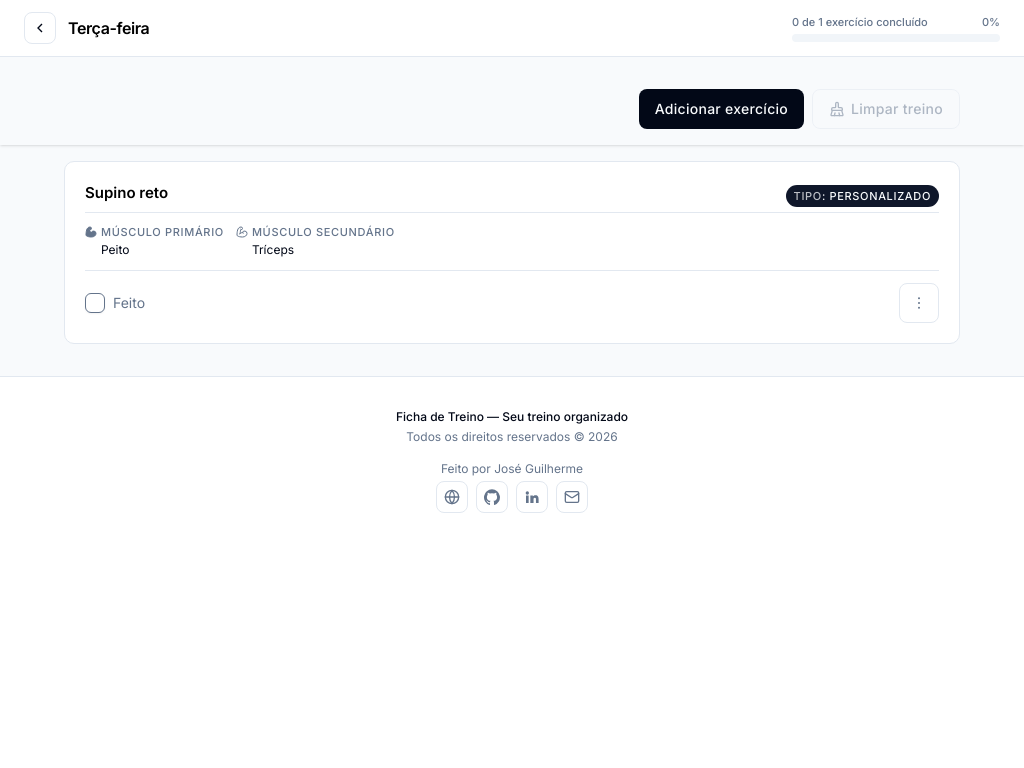
Test case: WorkoutDayPage › shows custom exercise edit failures only in the error dialog
What coordinates should you click on to do the following:
click the button named "Ações para Supino reto"
I would click on:
 (919, 303)
Its box is [899, 283, 939, 323].
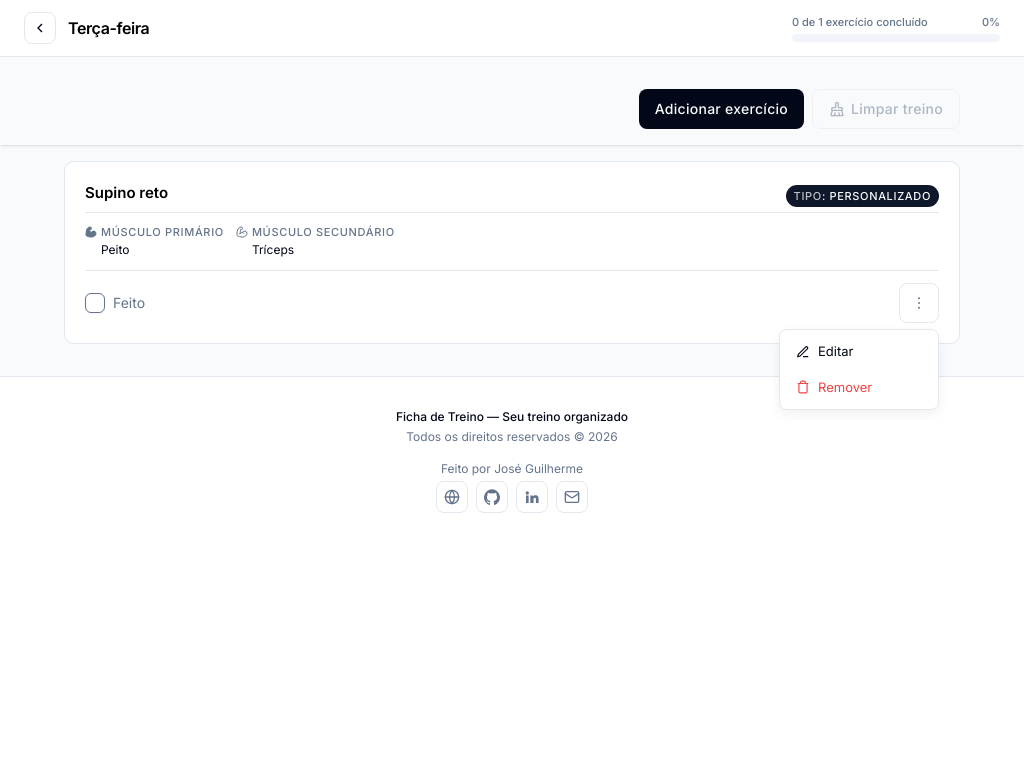
What coordinates should you click on to do the following:
click the menu item "Editar"
I would click on:
 (825, 351)
Its box is [796, 343, 853, 359].
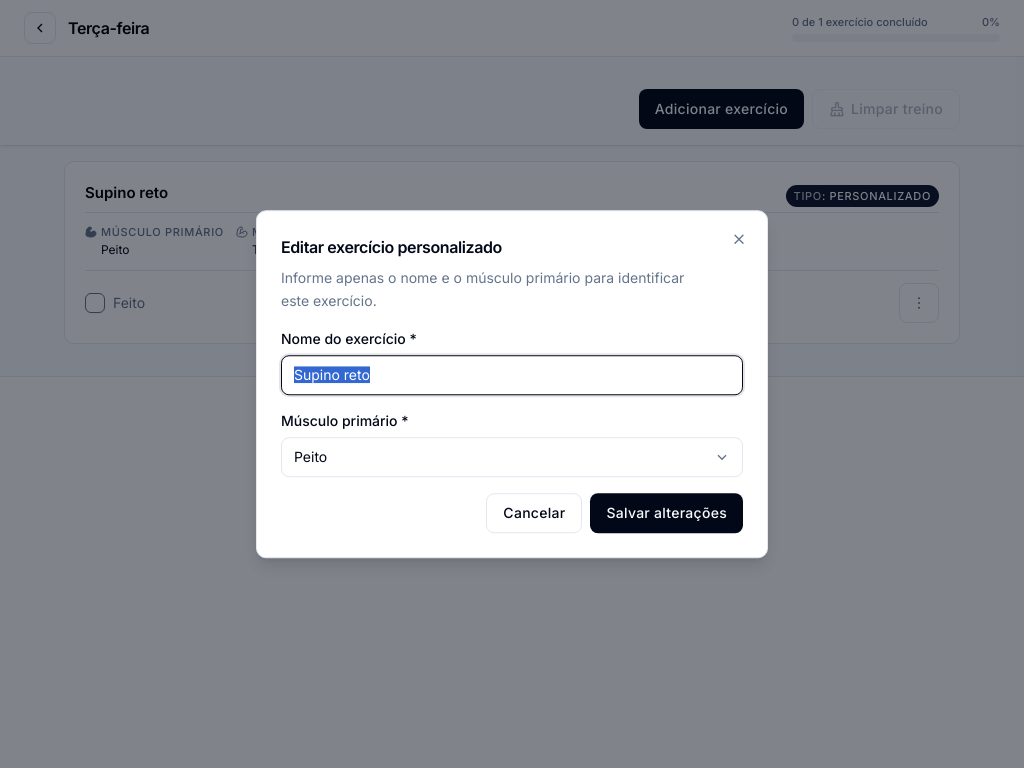
What coordinates should you click on to do the following:
click the button "Salvar alterações"
I would click on:
 (667, 513)
Its box is [590, 493, 743, 533].
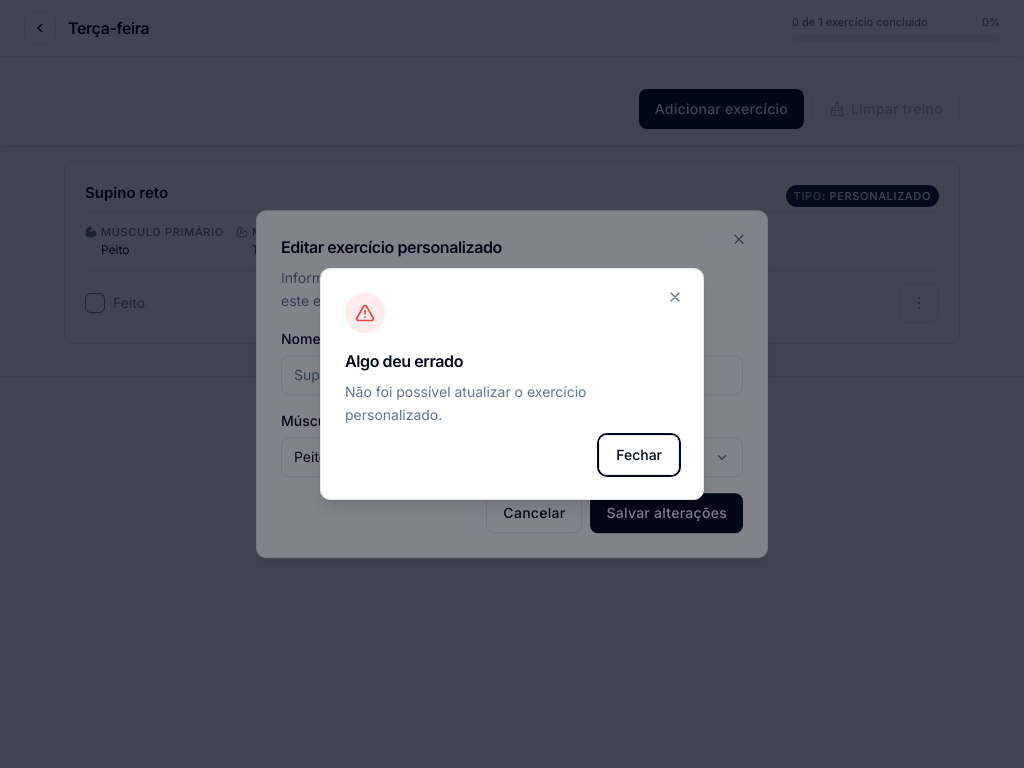
expect the dialog that starts with "Editar exercício personalizado" does not show "Não foi possível atualizar o exercício personalizado.": met, box [256, 210, 768, 558]
expect the dialog that starts with "Editar exercício personalizado" is shown: met, box [281, 237, 502, 257]
expect the dialog that starts with "Algo deu errado" shows "Não foi possível atualizar o exercício personalizado.": met, box [345, 383, 586, 423]
